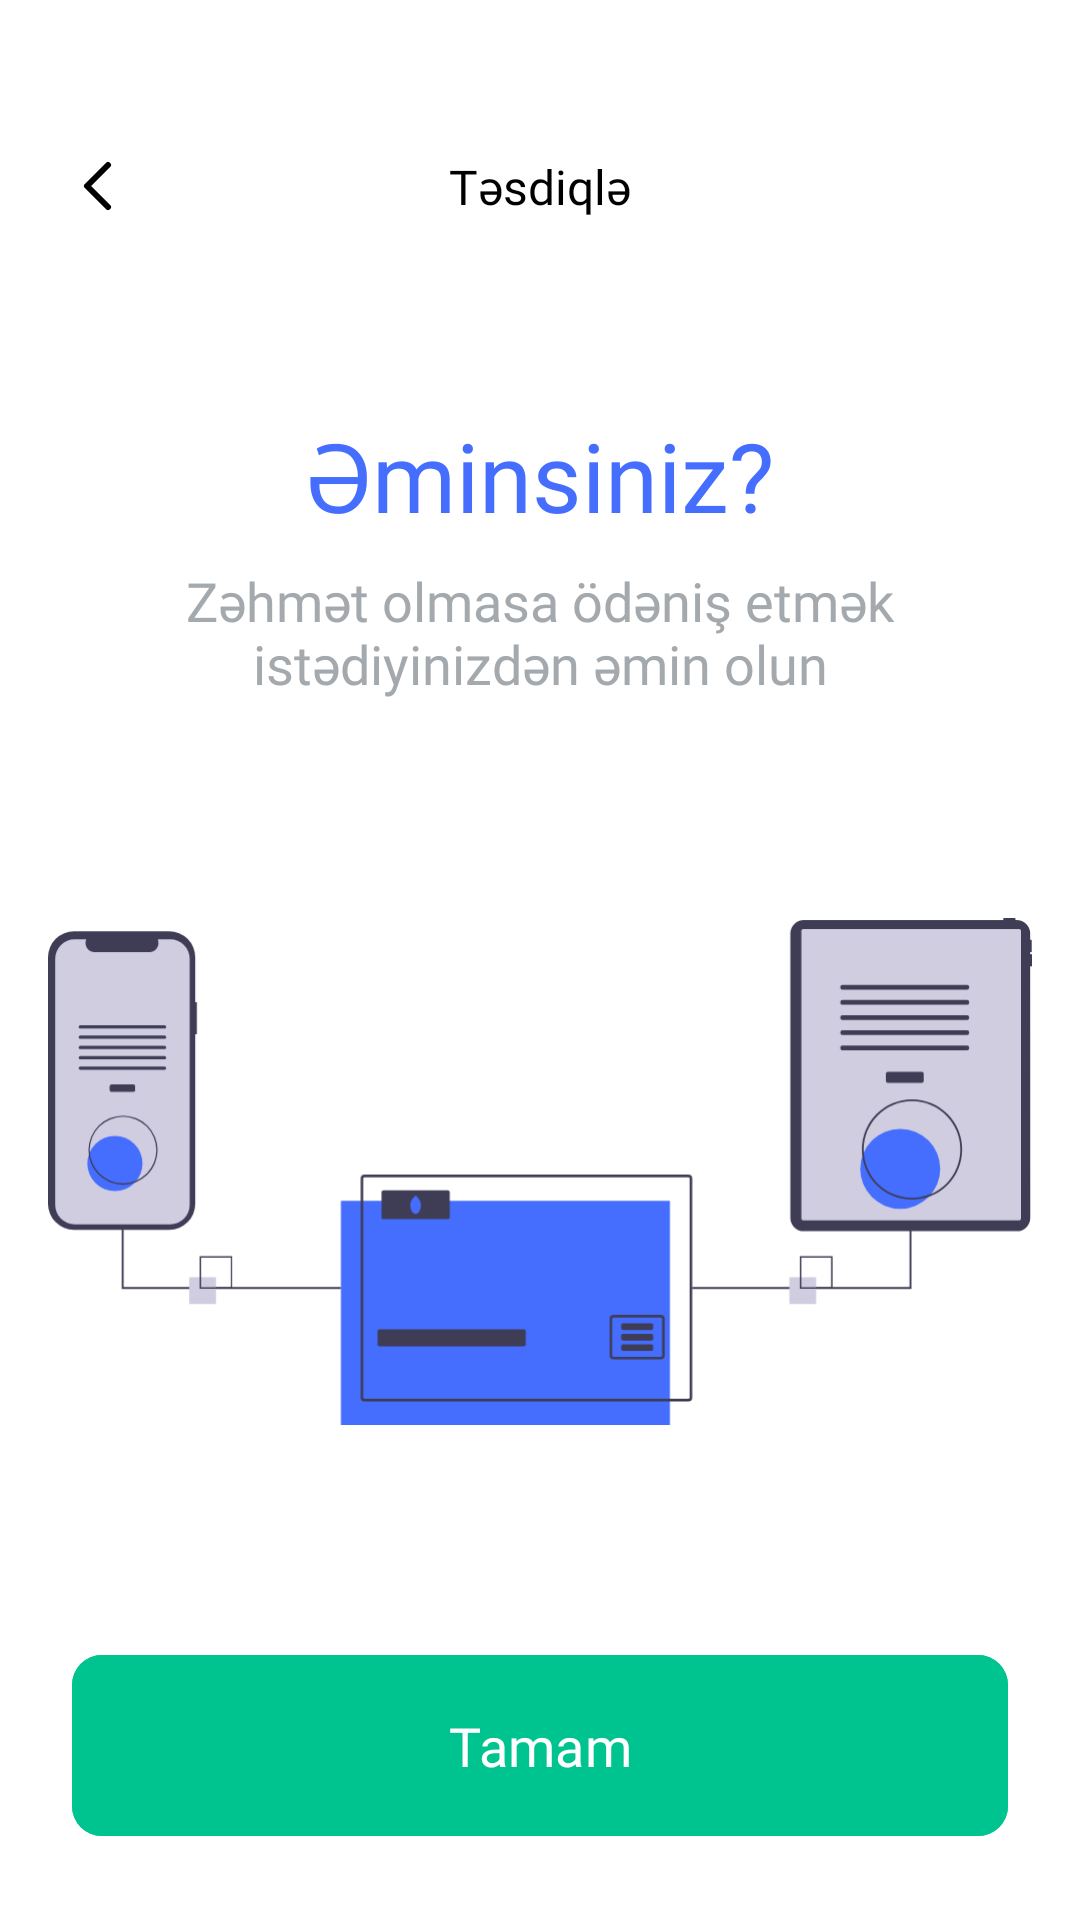

Named icons in this screenshot (1080w x 1920h) and their bounding boxes, Rect(x1, y1, x2, y2):
back: Rect(84, 162, 111, 210)
